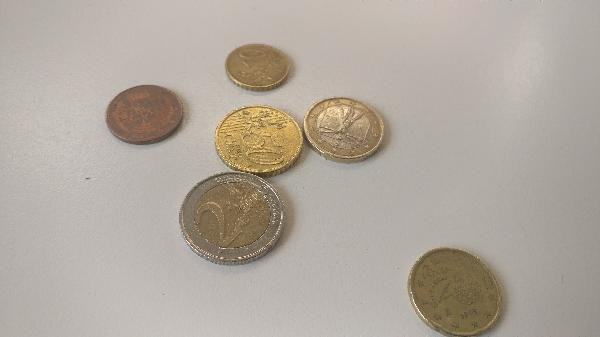Fifty Cent: (214, 103, 309, 178)
Five Cent: (105, 83, 183, 145)
One Euro: (302, 96, 386, 161)
Ten Cent: (223, 40, 293, 97)
Twenty Cent: (407, 244, 503, 335)
Two Euro: (175, 170, 288, 262)
